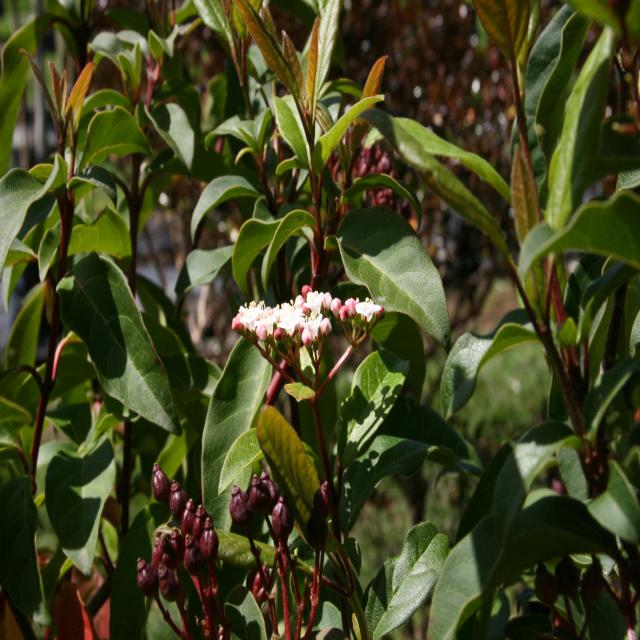Viburnum Emerald Beauty: (131, 4, 439, 640)
